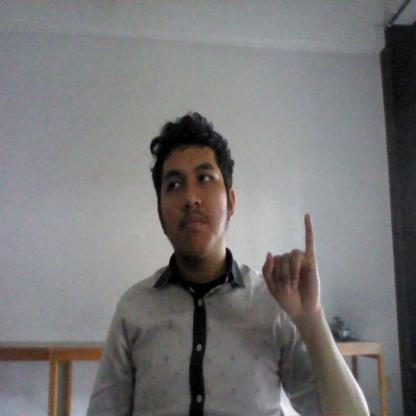I: (260, 208, 324, 326)
